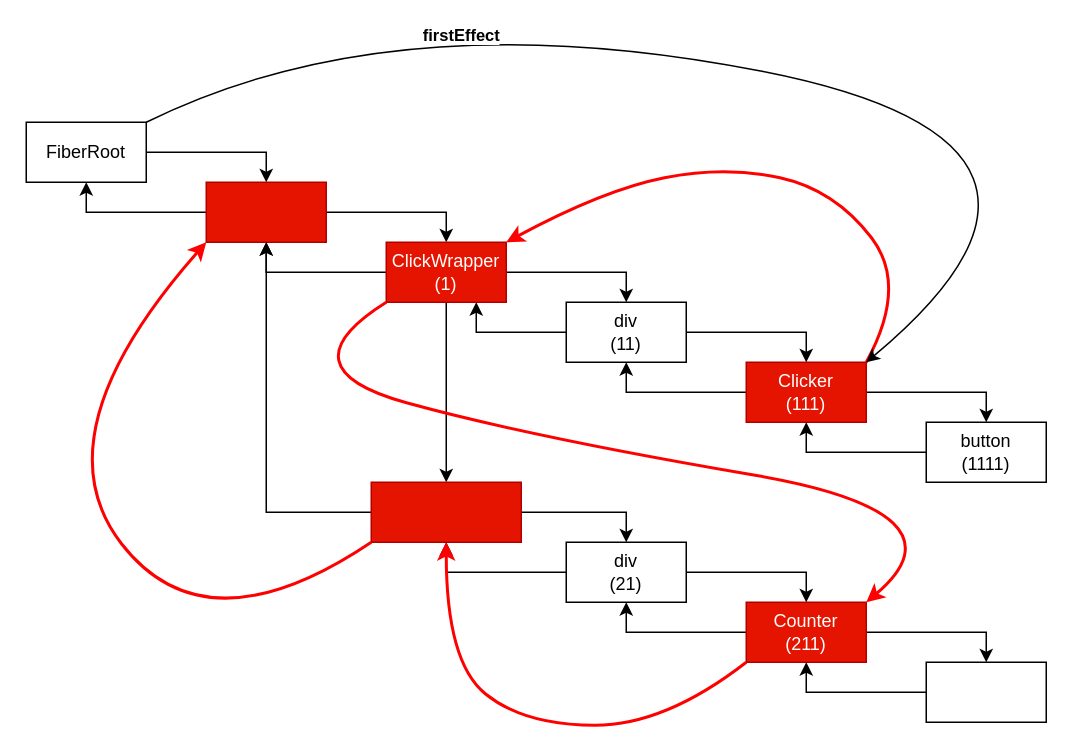
Some shapes in this 1073 by 753 pixel diagram are drawn without their labels. The centre of each missing label's shape, as x and y in pixels:
ClickCounter (0): pixel 265 211
CountWrapper (2): pixel 445 511
span (2111): pixel 985 691
